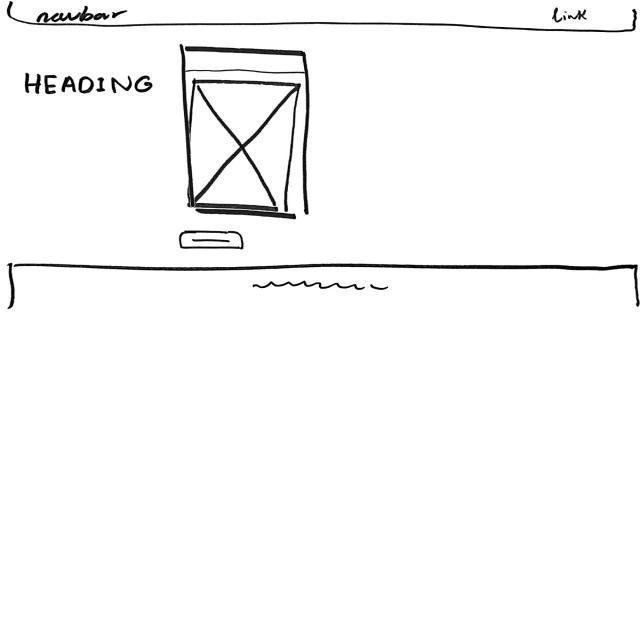container: (181, 46, 318, 220), (6, 1, 640, 34)
icon-button: (178, 231, 247, 253)
image: (189, 80, 300, 211)
label: (21, 72, 157, 98), (36, 7, 132, 23), (552, 6, 590, 24)
text: (252, 280, 394, 294)
